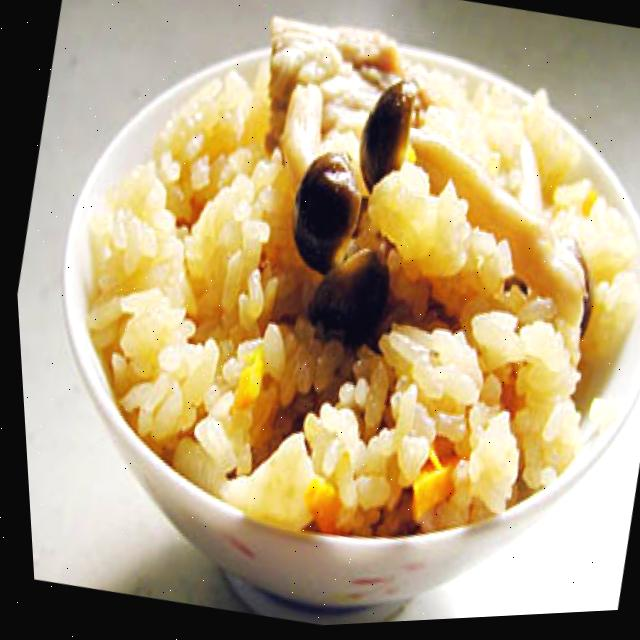米饭主食: (28, 0, 640, 577)
